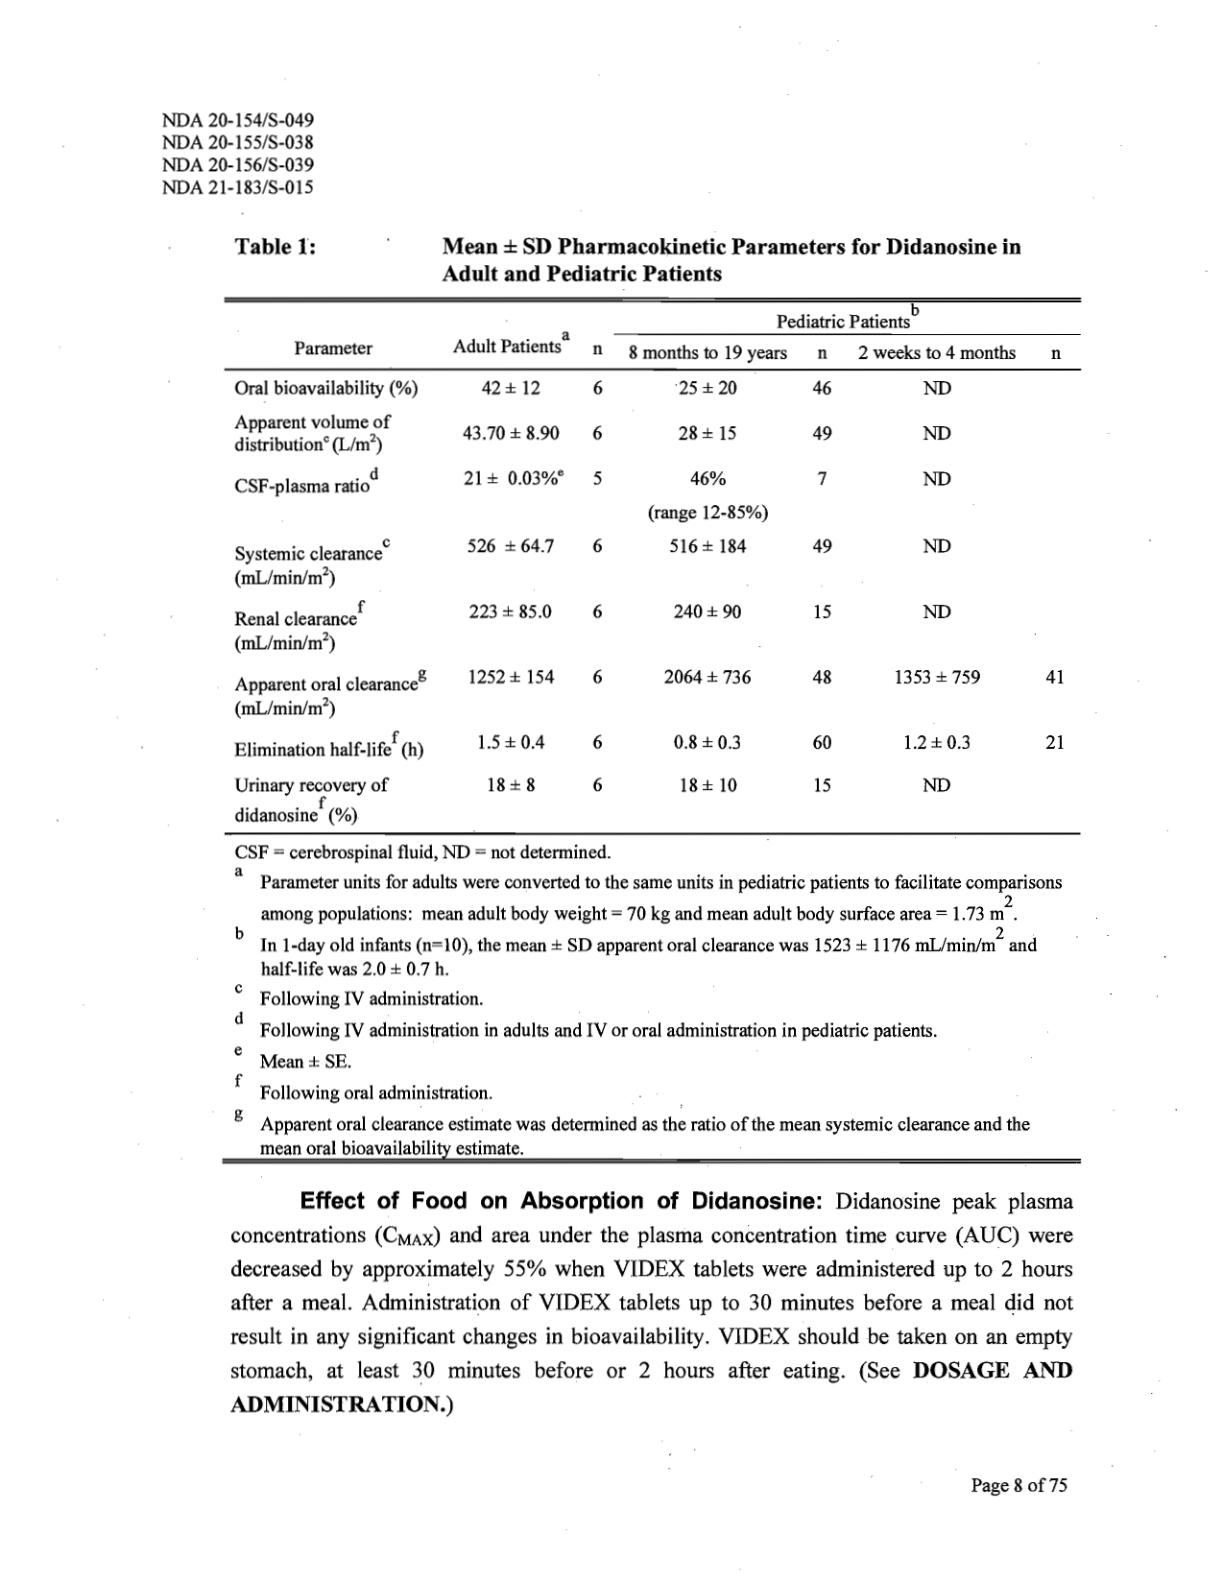partial_lined_merged_cells: (222, 293, 1082, 839)
